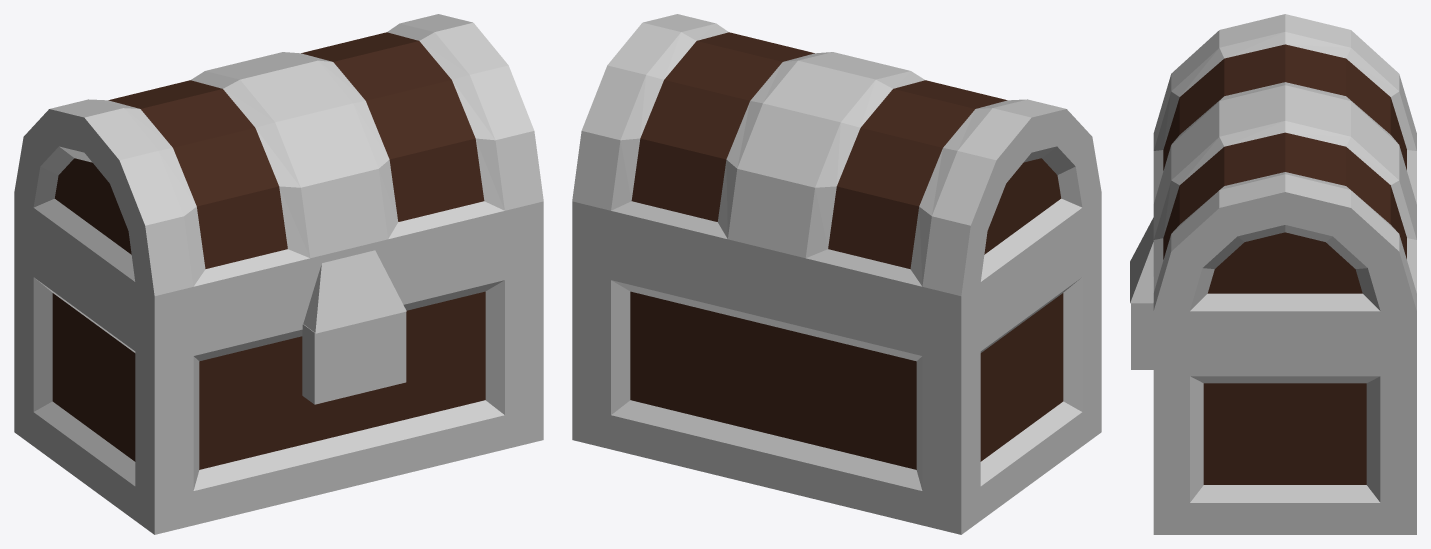
The model's file is ITMI_GOLDCHEST.OBJ.
3 renders of one model, left to right at view 1: azimuth 30°, elevation 25°; view 2: azimuth 150°, elevation 25°; view 3: azimuth 270°, elevation 25°, orthographic. The views are drawn at different scales.
Parts seen in each view (by area): view 1: ITMI_GOLDCHEST; view 2: ITMI_GOLDCHEST; view 3: ITMI_GOLDCHEST.
Part boxes in pixels (x1,y1,x2,y2): ITMI_GOLDCHEST: (14, 14, 543, 534); ITMI_GOLDCHEST: (572, 14, 1101, 534); ITMI_GOLDCHEST: (1130, 14, 1416, 534).
Size of the model in its own units: 0.4 by 0.3594 by 0.2723.
